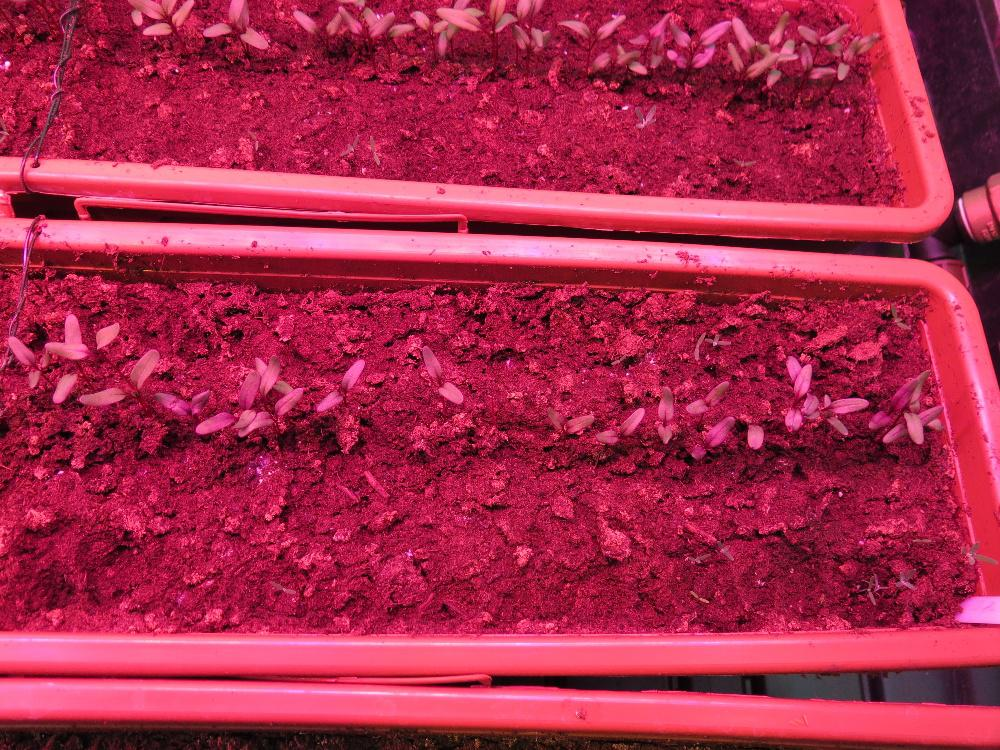crop: (313, 357, 364, 414), (420, 342, 464, 405), (688, 414, 734, 460), (594, 405, 646, 444), (684, 378, 730, 416), (545, 402, 595, 433), (654, 382, 674, 446)
weed: (959, 537, 997, 567), (632, 102, 657, 131), (892, 565, 916, 591), (337, 131, 360, 158), (268, 577, 297, 596), (713, 537, 733, 561), (703, 329, 731, 345), (242, 125, 259, 151), (367, 132, 379, 166), (688, 588, 710, 604), (685, 550, 710, 564), (731, 155, 757, 167), (908, 534, 932, 545)
